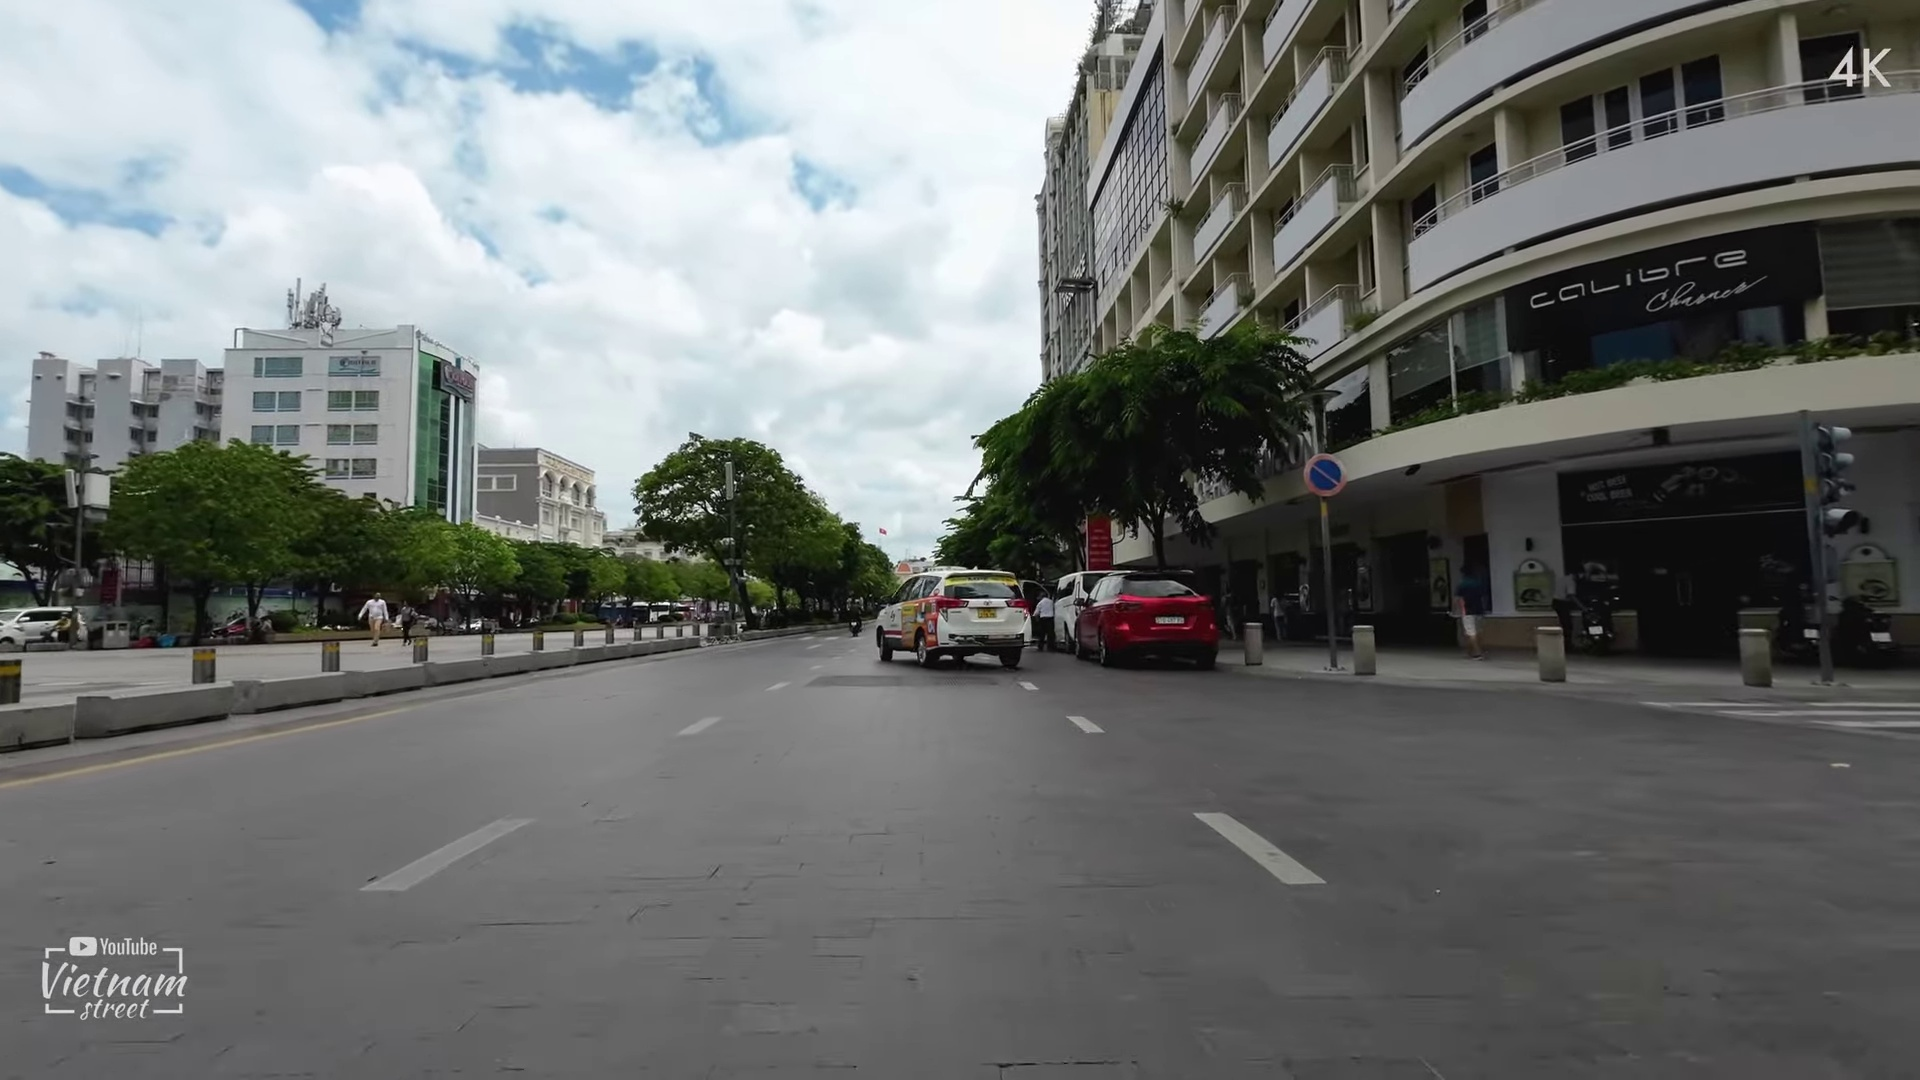cam_do_xe: (1302, 448, 1350, 502)
